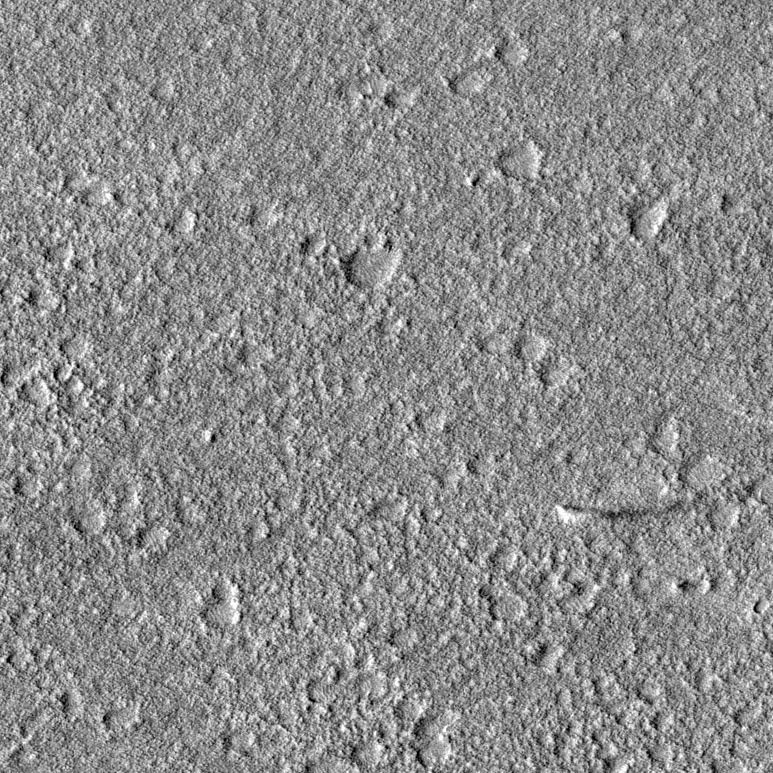dust_devil: (553, 499, 688, 525)
